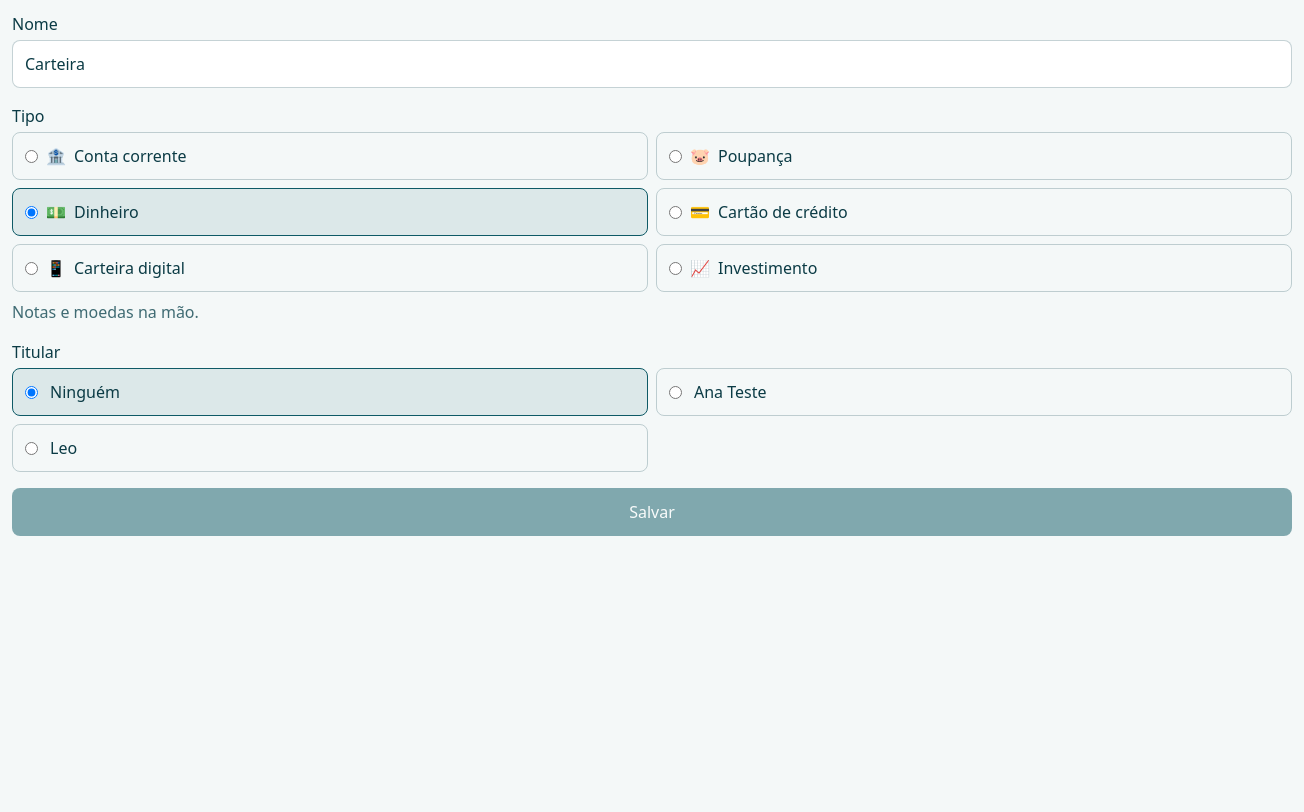
Test: OwnerPicker › saysSoWhenSavingTheOwnerFails
This screenshot has width=1304, height=812.
Click the radio button labelled "Leo" at (32, 448), box [25,442,38,454]
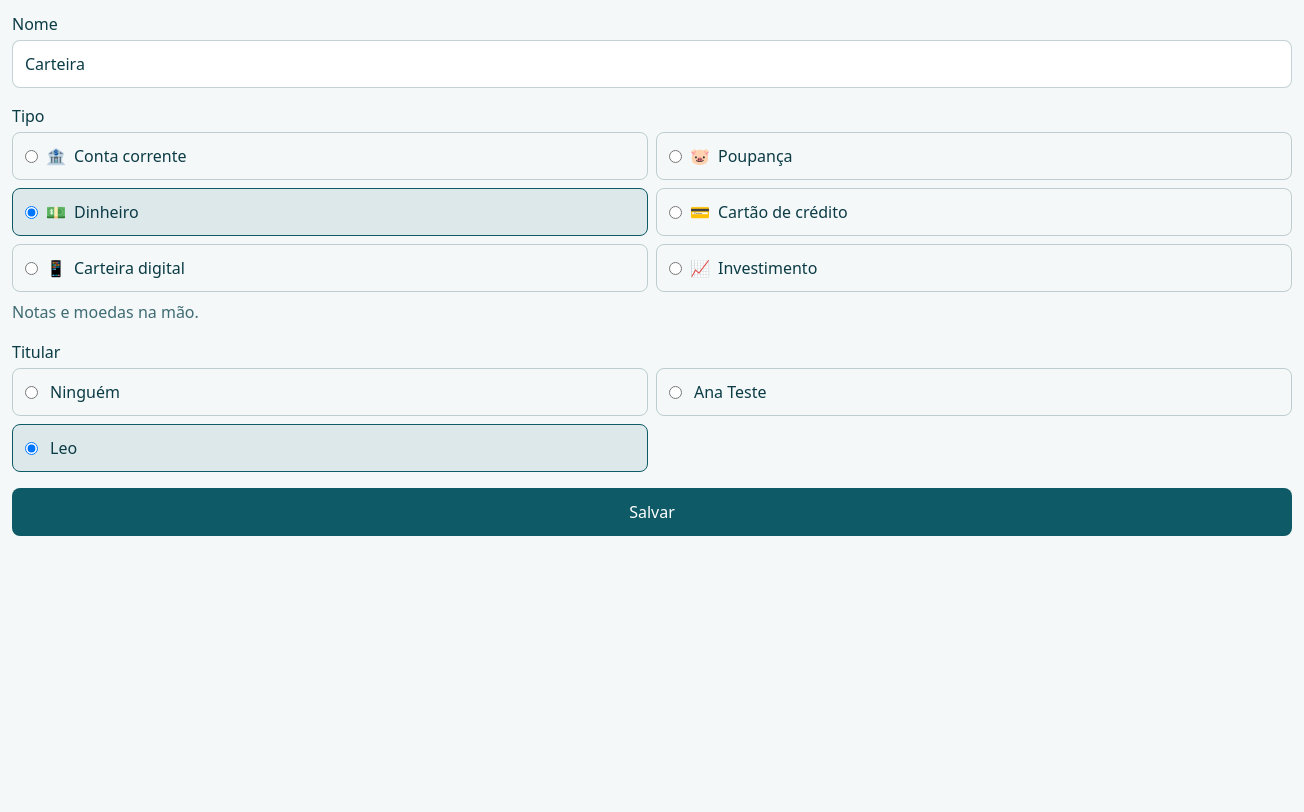
Click the button "Salvar" at (652, 512), box [12,488,1292,536]
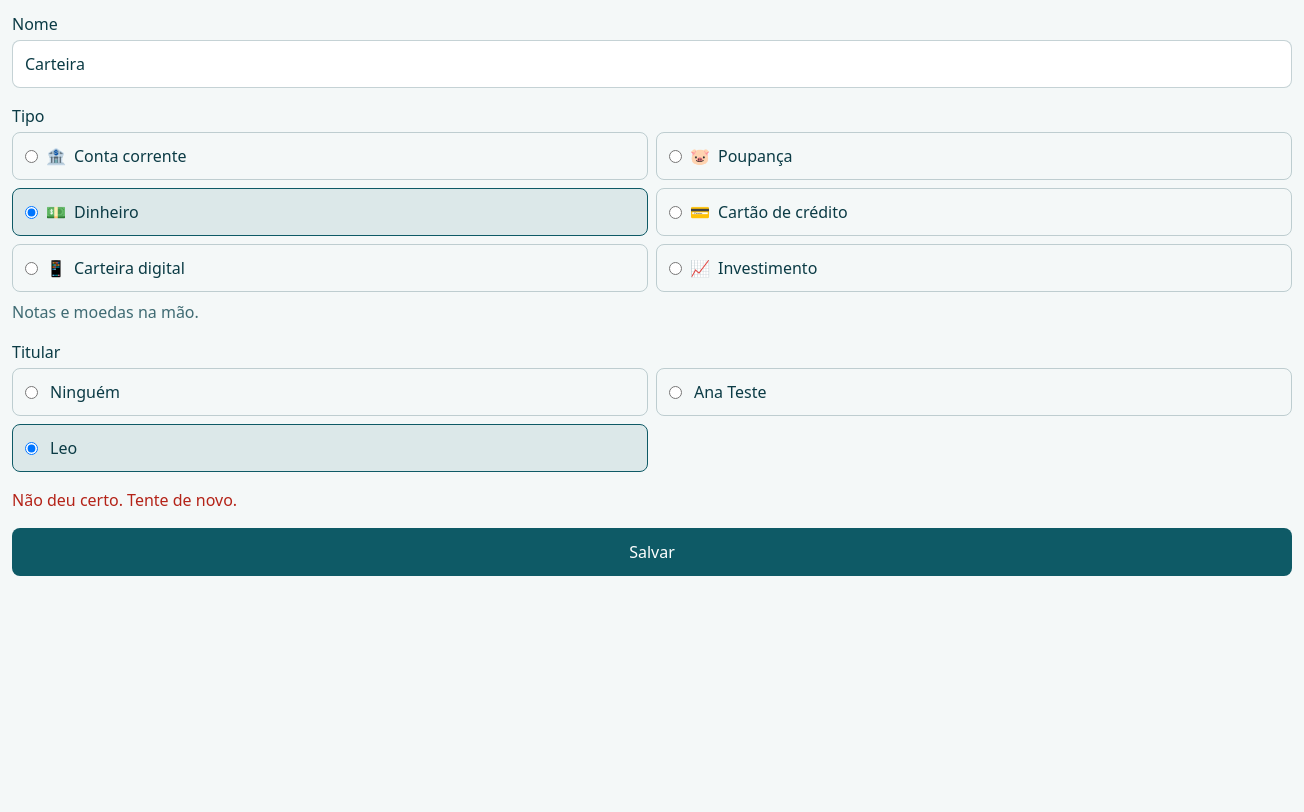
Result: the message "Não deu certo. Tente de novo." is shown at [12,489,237,511]
